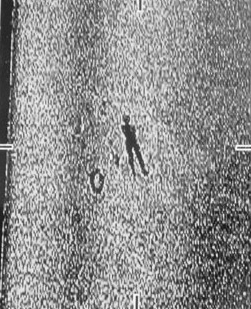man: (118, 112, 151, 184)
